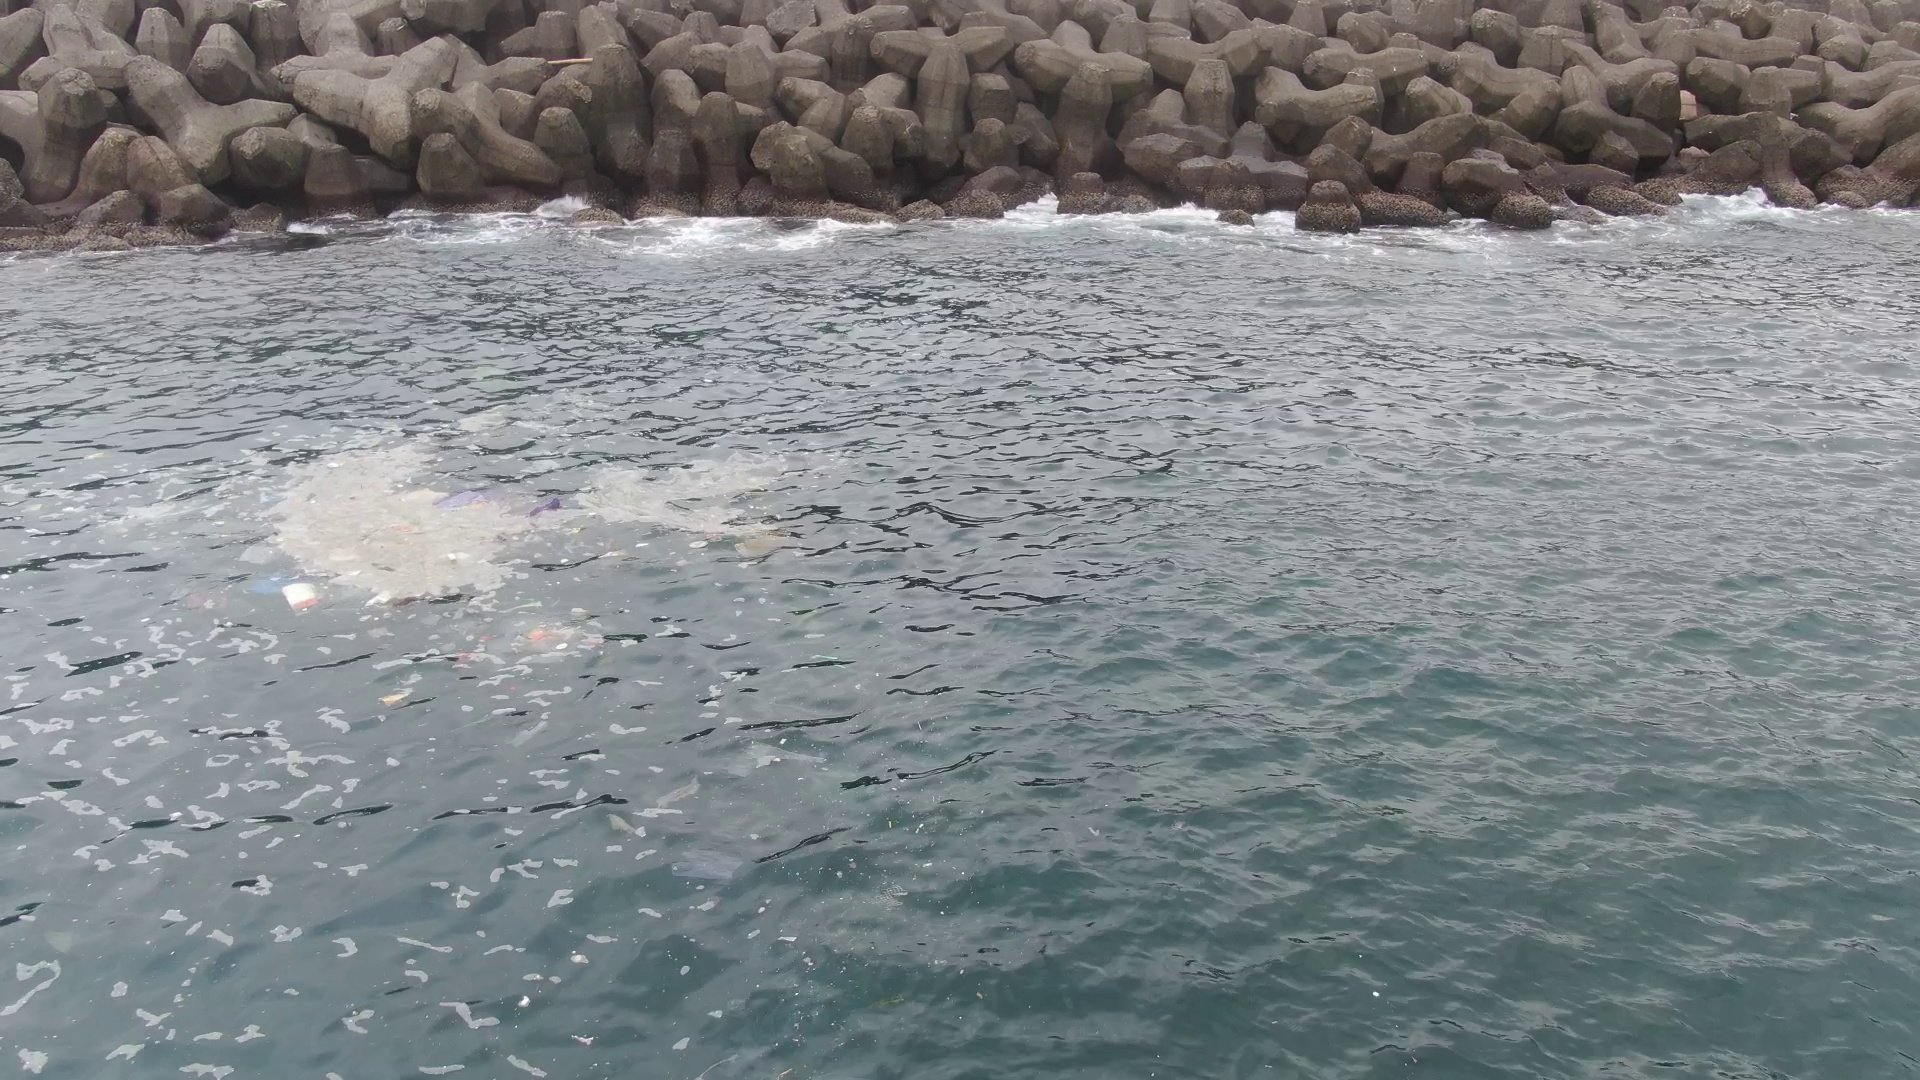garbage: (228, 451, 562, 617), (452, 620, 607, 669), (373, 676, 430, 709)
